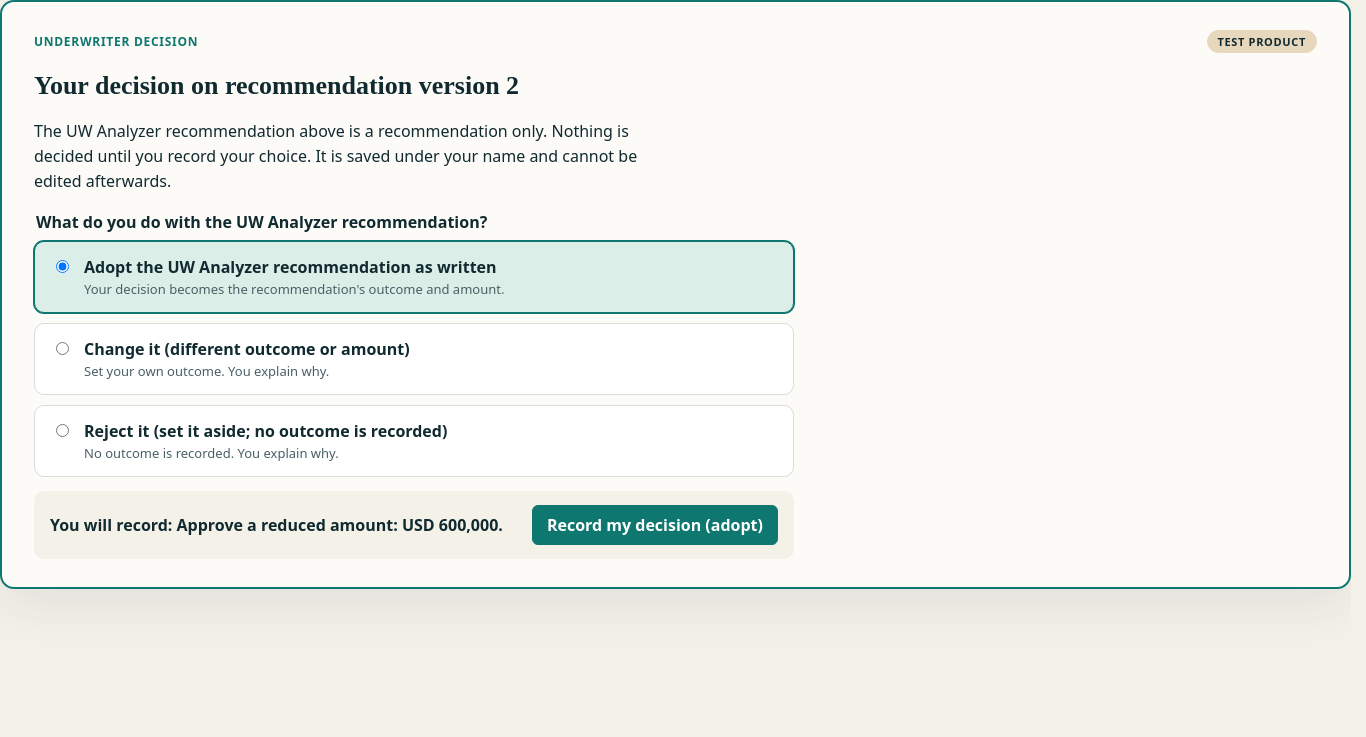
draft recommendation design › blocks a changed amount above the amount requested
Step 1. Click the radio button labelled "Change it" → [62, 349], box [56,342,69,355]
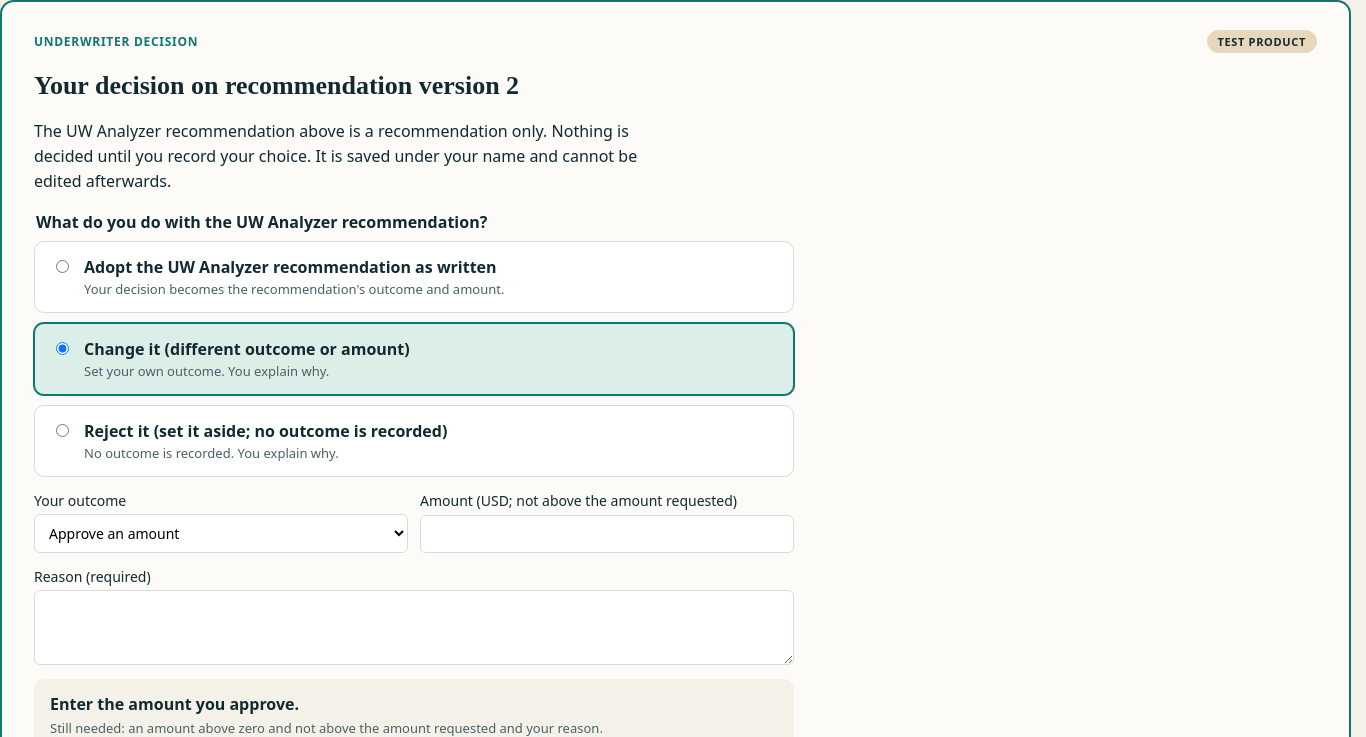
Step 2. Type "2000000" into the field labelled "Amount (USD; not above the amount requested)" → [607, 534], box [420,515,794,553]
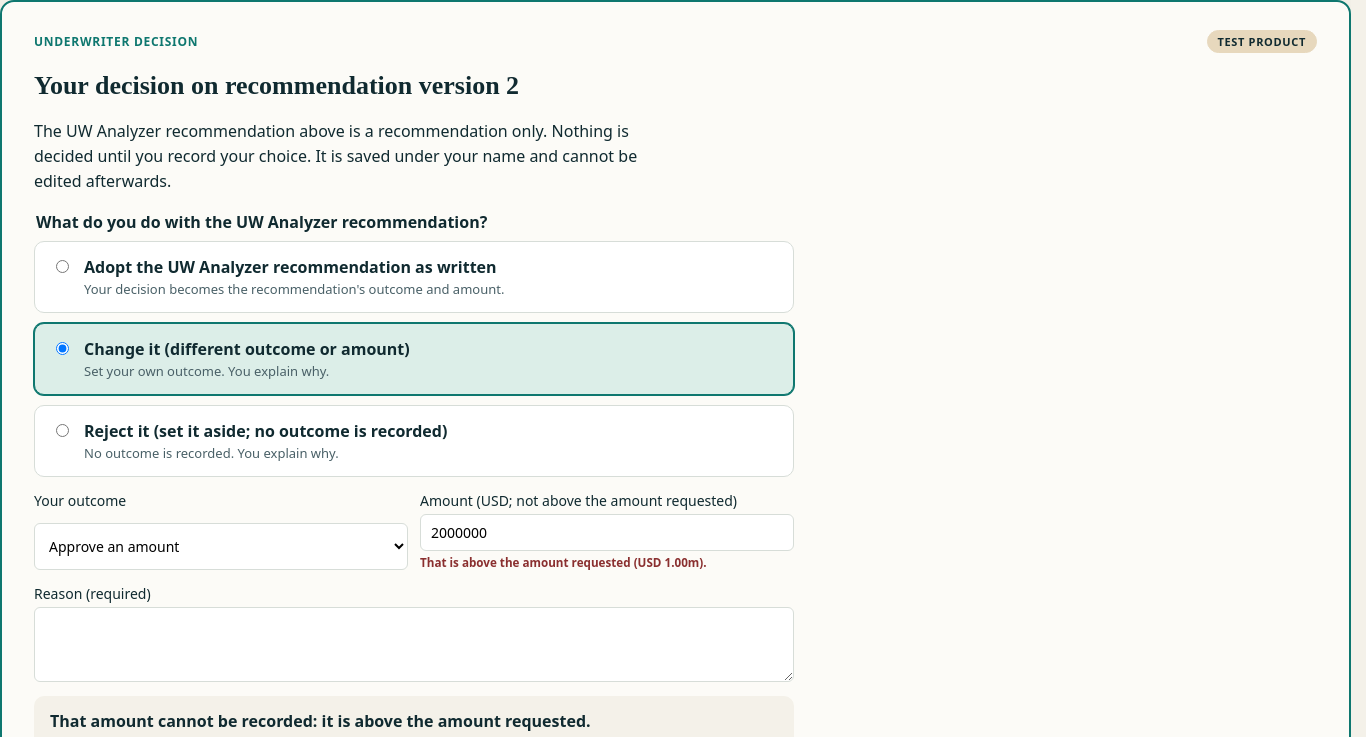
expect the text "That is above the amount requested (USD 1.00m)." is shown: met, box [420,555,706,570]
Step 3. Replace the text in the field labelled "Amount" with "700000" → [607, 533], box [420,514,794,551]
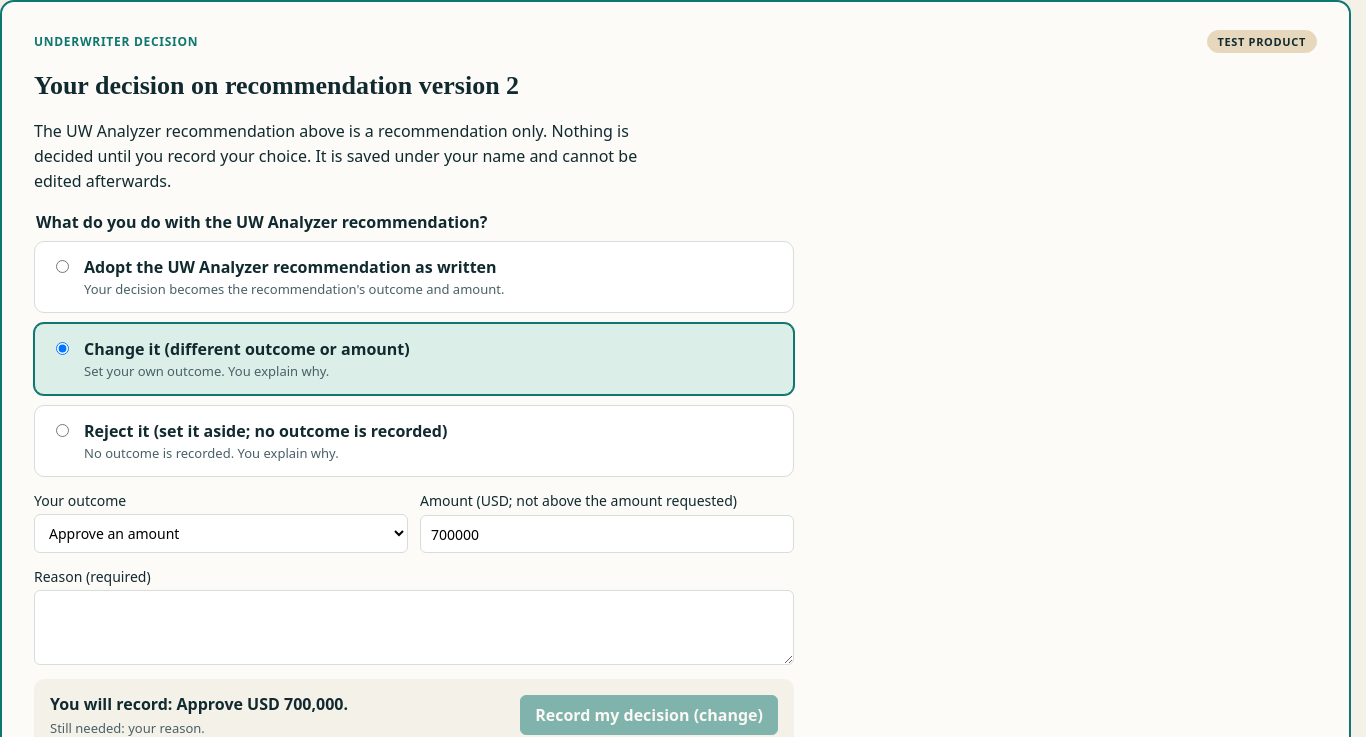
expect the text "You will record: Approve USD 700,000." is shown: met, box [50,693,348,715]
Step 4. Type "Own view of the sector." into the text box labelled "Reason (required)" → [414, 628], box [34,590,794,665]
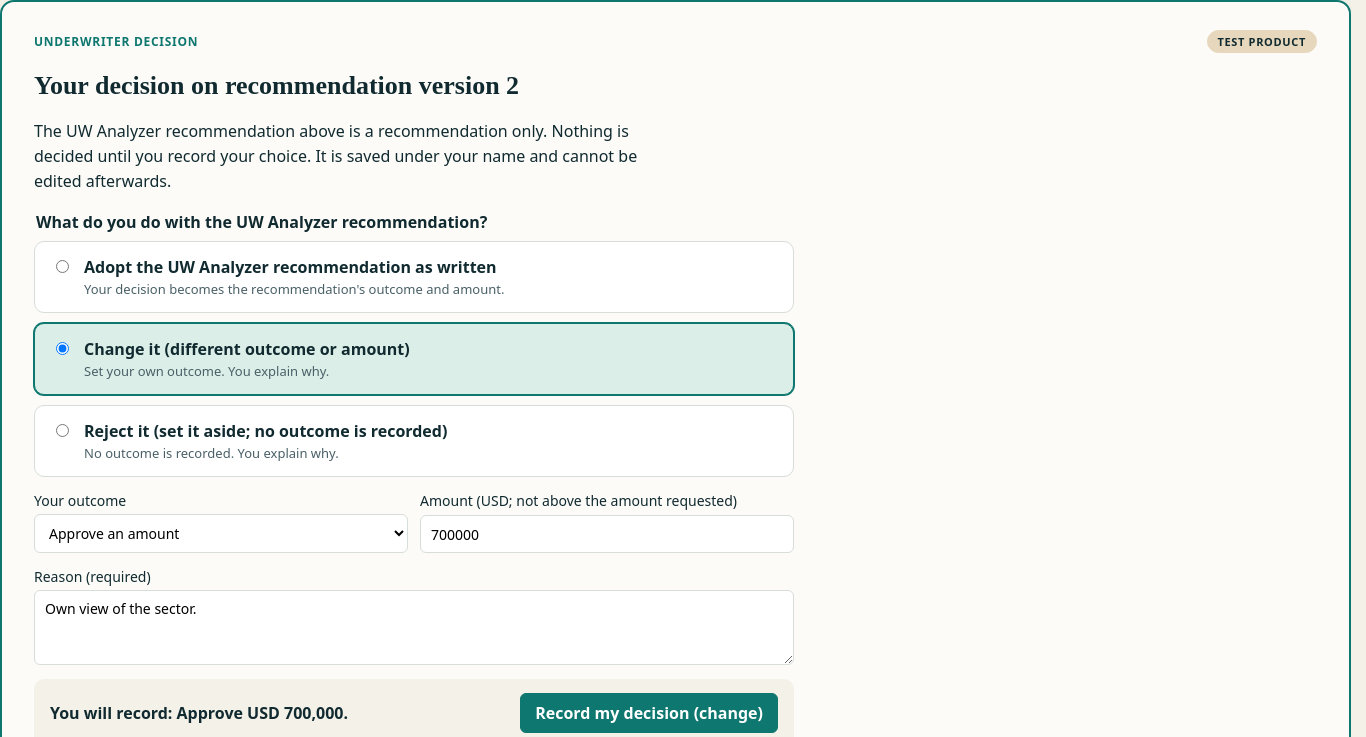
expect the button "Record my decision (change)" is enabled: met, box [520,693,778,733]
